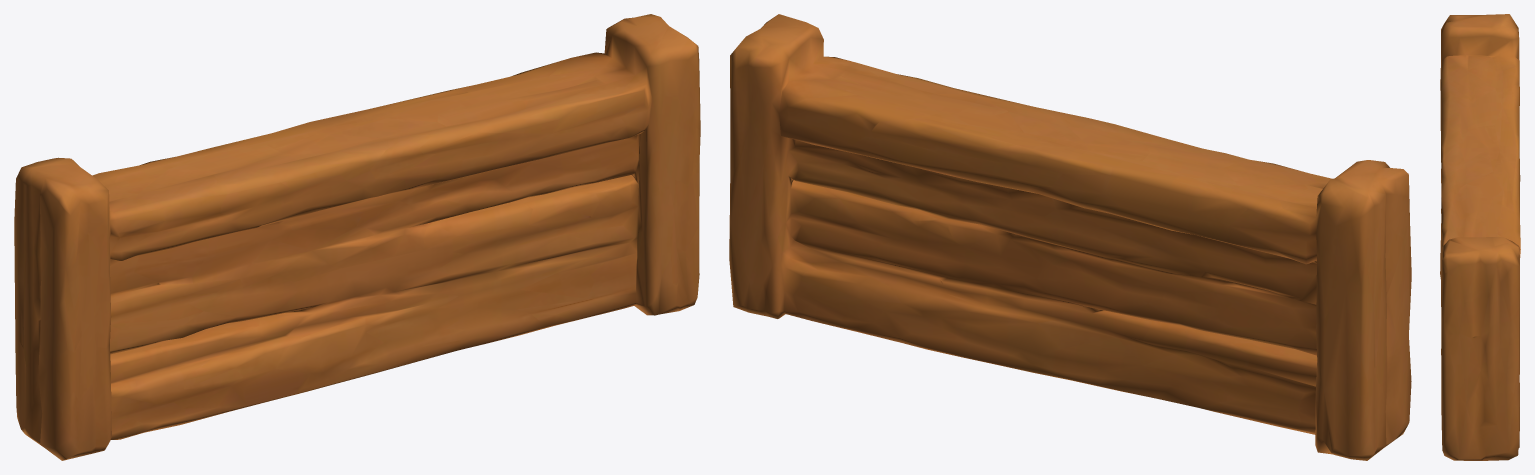
File: 41-mureta.glb
The picture shows the model from 3 angles, left to right: view 1: azimuth 30°, elevation 25°; view 2: azimuth 150°, elevation 25°; view 3: azimuth 270°, elevation 25°; orthographic projection. The views are drawn at different scales.
Visible parts, largest first — view 1: tripo_node_57c572f1-2bf7-4cf1-8aca-da1fc8e4d67d; view 2: tripo_node_57c572f1-2bf7-4cf1-8aca-da1fc8e4d67d; view 3: tripo_node_57c572f1-2bf7-4cf1-8aca-da1fc8e4d67d.
Part boxes in pixels (left/top/right/bottom): tripo_node_57c572f1-2bf7-4cf1-8aca-da1fc8e4d67d: left=14, top=14, right=700, bottom=460; tripo_node_57c572f1-2bf7-4cf1-8aca-da1fc8e4d67d: left=729, top=14, right=1411, bottom=460; tripo_node_57c572f1-2bf7-4cf1-8aca-da1fc8e4d67d: left=1440, top=14, right=1520, bottom=460.
Size of the model in its own units: 1 by 0.4015 by 0.1395.
1 material, 1 textured.
